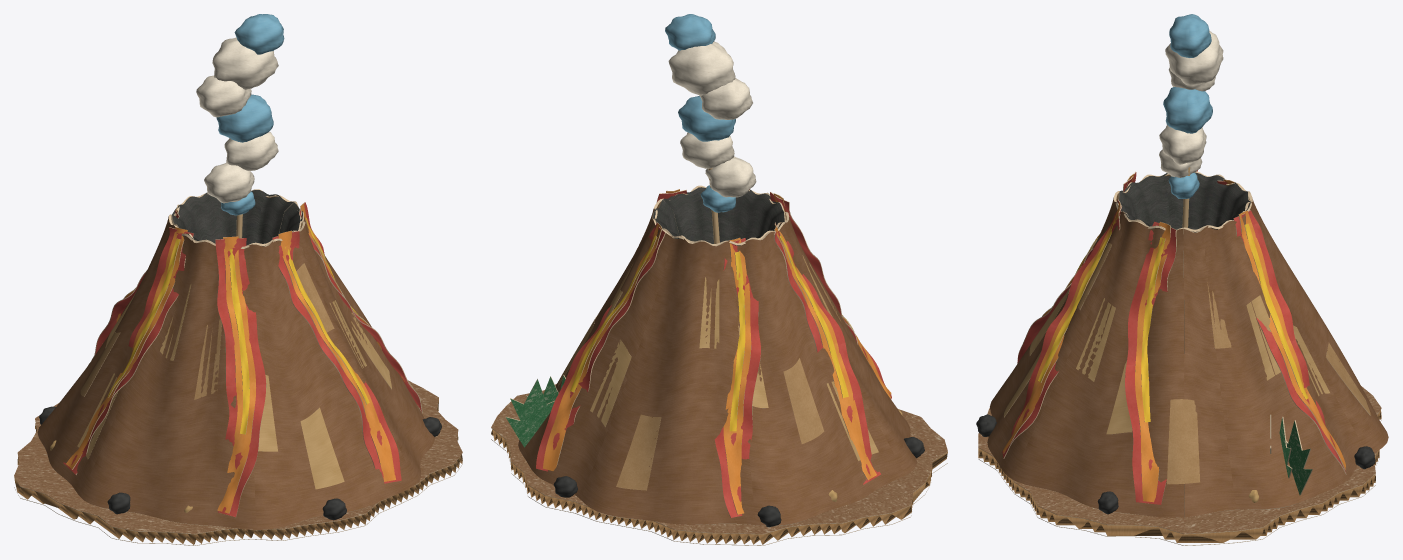
File: 23_tissue_lava_volcano.glb
3 renders of one model, left to right at view 1: azimuth 30°, elevation 25°; view 2: azimuth 150°, elevation 25°; view 3: azimuth 270°, elevation 25°, orthographic.
Parts seen in each view (by area): view 1: paint_brown, tissue_red, tissue_orange, paper, brown, paint_sand, paint_black, edge, flute, paint_sky, tissue_yellow, kraft (+1 smaller); view 2: paint_brown, tissue_red, tissue_orange, paper, brown, paint_black, kraft, flute, edge, paint_sky, paint_sand, tissue_yellow (+2 smaller); view 3: paint_brown, tissue_red, tissue_orange, brown, paint_black, paint_sand, kraft, flute, paper, paint_sky, edge, tissue_yellow (+2 smaller).
Part boxes in pixels (<box>): paint_brown: <box>37,216,434,529</box>; tissue_red: <box>63,202,421,516</box>; tissue_orange: <box>66,203,411,513</box>; paper: <box>196,37,278,203</box>; brown: <box>14,380,462,533</box>; paint_sand: <box>77,284,391,489</box>; paint_black: <box>172,190,302,246</box>; edge: <box>14,189,462,545</box>; flute: <box>14,399,462,544</box>; paint_sky: <box>216,14,284,215</box>; tissue_yellow: <box>108,218,369,434</box>; kraft: <box>80,194,334,399</box>; paint_brown: <box>518,209,916,525</box>; tissue_red: <box>536,189,891,517</box>; tissue_orange: <box>543,189,891,514</box>; paper: <box>668,41,756,197</box>; brown: <box>491,384,947,533</box>; paint_black: <box>653,187,784,245</box>; kraft: <box>558,187,840,490</box>; flute: <box>491,429,947,544</box>; edge: <box>491,185,947,545</box>; paint_sky: <box>665,14,735,212</box>; paint_sand: <box>590,255,878,460</box>; tissue_yellow: <box>570,235,852,431</box>; paint_brown: <box>987,197,1388,517</box>; tissue_red: <box>1002,170,1345,504</box>; tissue_orange: <box>1003,174,1345,502</box>; brown: <box>978,386,1381,533</box>; paint_black: <box>1117,172,1250,232</box>; paint_sand: <box>1004,287,1329,434</box>; kraft: <box>1077,174,1370,484</box>; flute: <box>978,410,1381,542</box>; paper: <box>1159,31,1223,177</box>; paint_sky: <box>1163,14,1212,198</box>; edge: <box>978,171,1381,545</box>; tissue_yellow: <box>1038,217,1308,422</box>.
Bounding box in the file's own units: 0.4278 × 0.4374 × 0.3706.
Materials: 18 (17 with a texture image).
